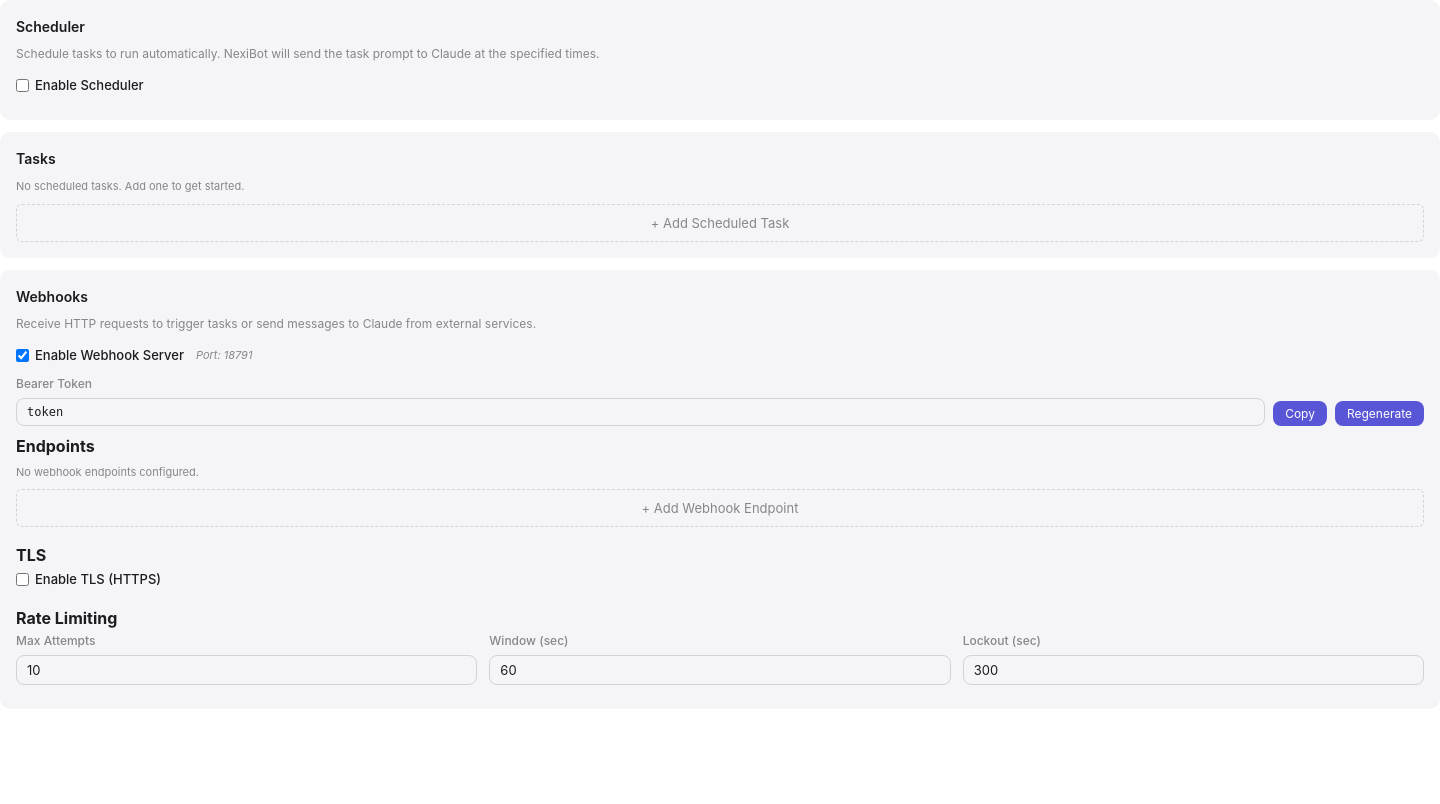
Webhook endpoints section › shows + Add Webhook Endpoint button and opens add endpoint form
Click the button "+ Add Webhook Endpoint". click: x=720, y=508
box: x1=16 y1=489 x2=1424 y2=527
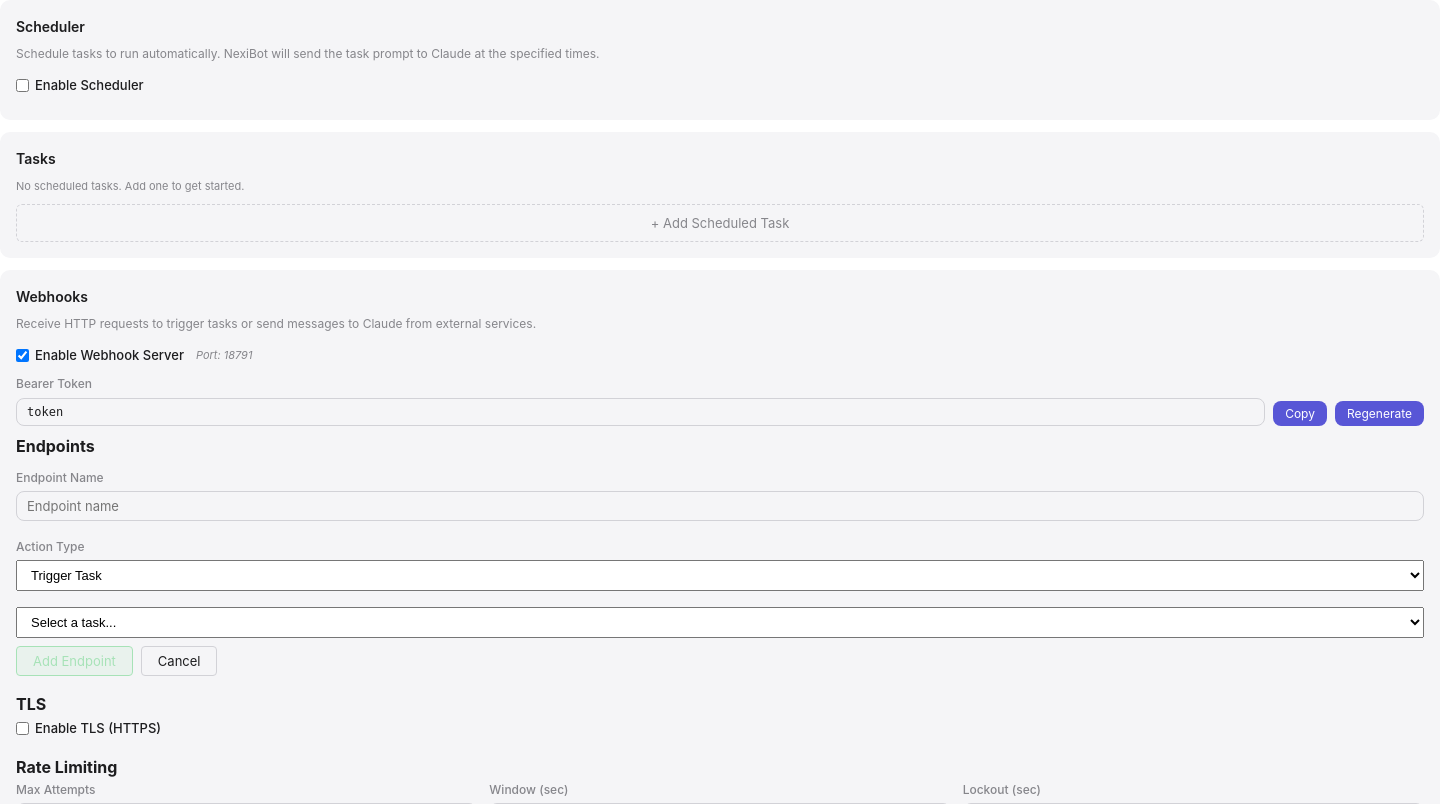
Expected: the field with placeholder "Endpoint Name" is shown, x1=16 y1=491 x2=1424 y2=521
